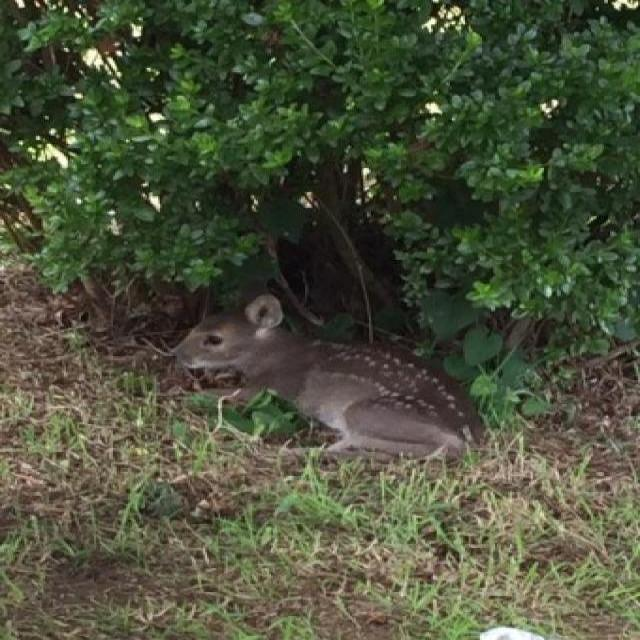deer: (147, 273, 527, 524)
